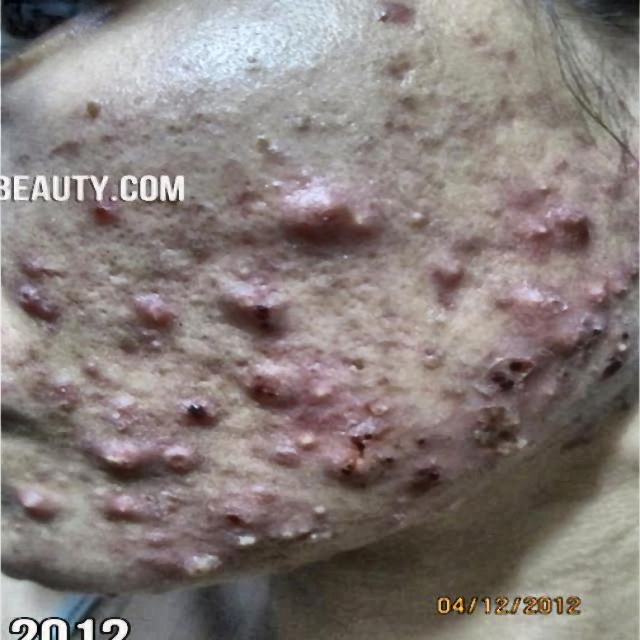nodule: (279, 194, 358, 241), (220, 283, 297, 330), (158, 388, 228, 434), (74, 442, 141, 488), (81, 491, 158, 531), (269, 512, 338, 556), (230, 368, 297, 413), (145, 434, 208, 481), (316, 440, 385, 480), (124, 524, 196, 559), (469, 388, 532, 427), (542, 312, 593, 360), (214, 524, 280, 561), (9, 484, 66, 526), (338, 199, 387, 246), (165, 549, 226, 585), (122, 290, 188, 323), (432, 253, 478, 300), (584, 172, 638, 212), (290, 408, 336, 452), (414, 337, 461, 380), (517, 281, 573, 317), (124, 323, 169, 366), (361, 488, 429, 516), (398, 422, 454, 456), (395, 453, 455, 484), (328, 411, 387, 442), (239, 439, 297, 470), (27, 370, 88, 399), (544, 212, 593, 248), (482, 432, 544, 460), (289, 370, 338, 405), (482, 355, 530, 389), (226, 472, 283, 500), (502, 168, 560, 195), (516, 219, 558, 256), (489, 277, 522, 320), (94, 391, 149, 416), (86, 199, 127, 232), (10, 246, 57, 272), (202, 496, 245, 523), (297, 484, 333, 516), (353, 391, 394, 415), (593, 274, 634, 298), (67, 364, 121, 382), (462, 415, 499, 439), (589, 316, 621, 343), (371, 2, 419, 19), (577, 279, 603, 310), (23, 300, 61, 320), (600, 338, 638, 358), (527, 380, 568, 398), (6, 282, 41, 300)
